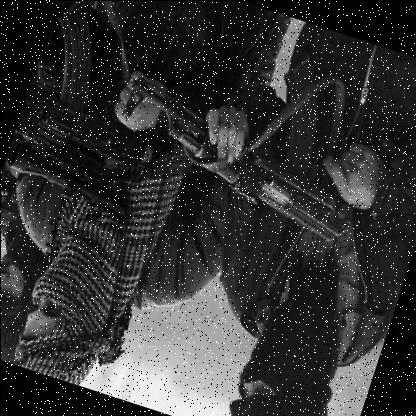rifle: (102, 17, 392, 257), (1, 0, 201, 224)
